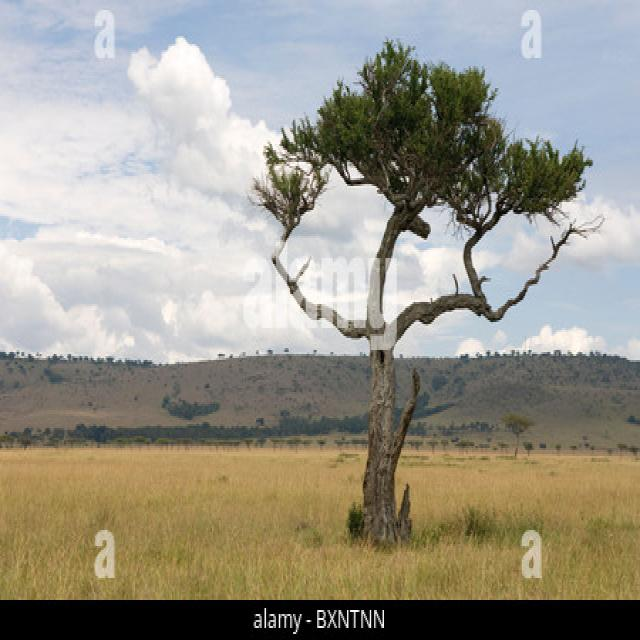Acacia: (246, 46, 579, 483)
